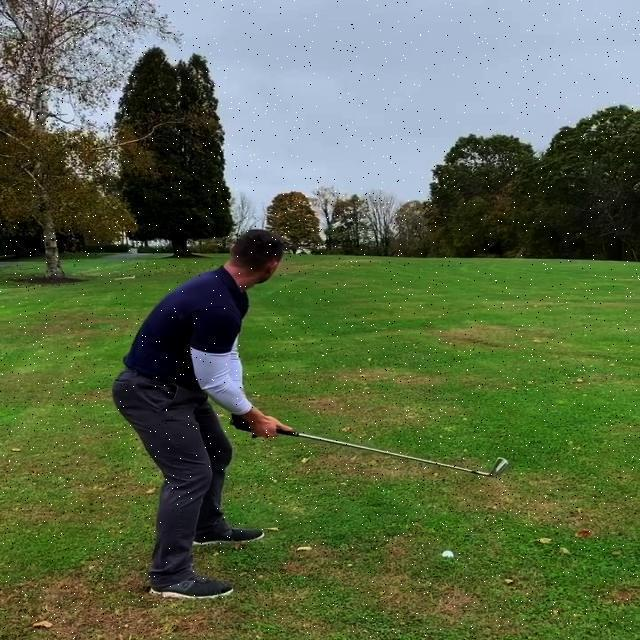ClubHead: (490, 457, 509, 477)
GolfBall: (442, 550, 454, 559)
